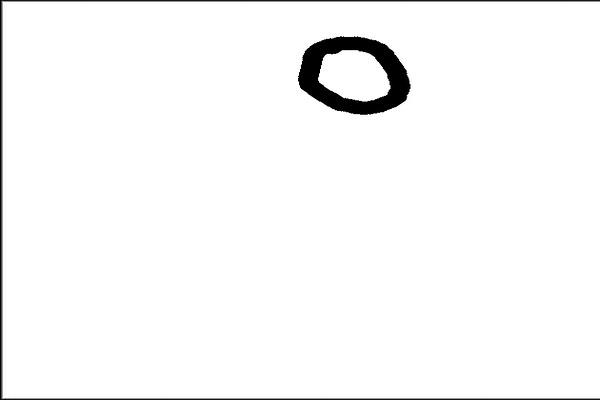O: (286, 29, 417, 117)
